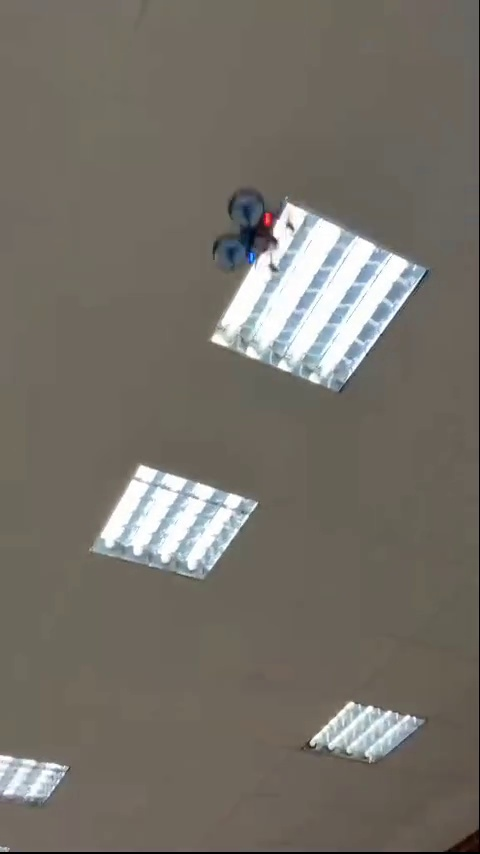drone: (220, 190, 292, 275)
